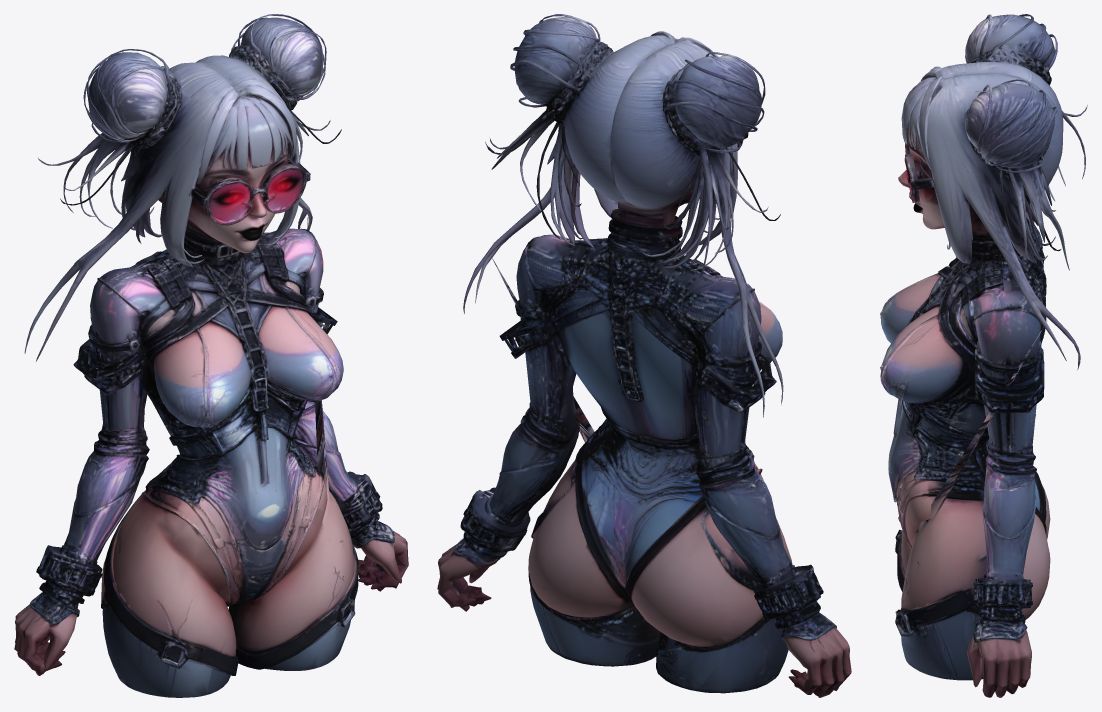
The picture shows the model from 3 angles, left to right: view 1: azimuth 30°, elevation 25°; view 2: azimuth 150°, elevation 25°; view 3: azimuth 270°, elevation 25°; orthographic projection. The views are drawn at different scales.
Visible parts, largest first — view 1: singer; view 2: singer; view 3: singer.
Boxes of the visible parts, x1,y1,x2,y2 form: singer: (14, 14, 408, 697); singer: (437, 14, 851, 697); singer: (880, 14, 1087, 697).
Size of the model in its own units: 0.7117 by 1.07 by 0.3472.
1 material, 1 textured.
